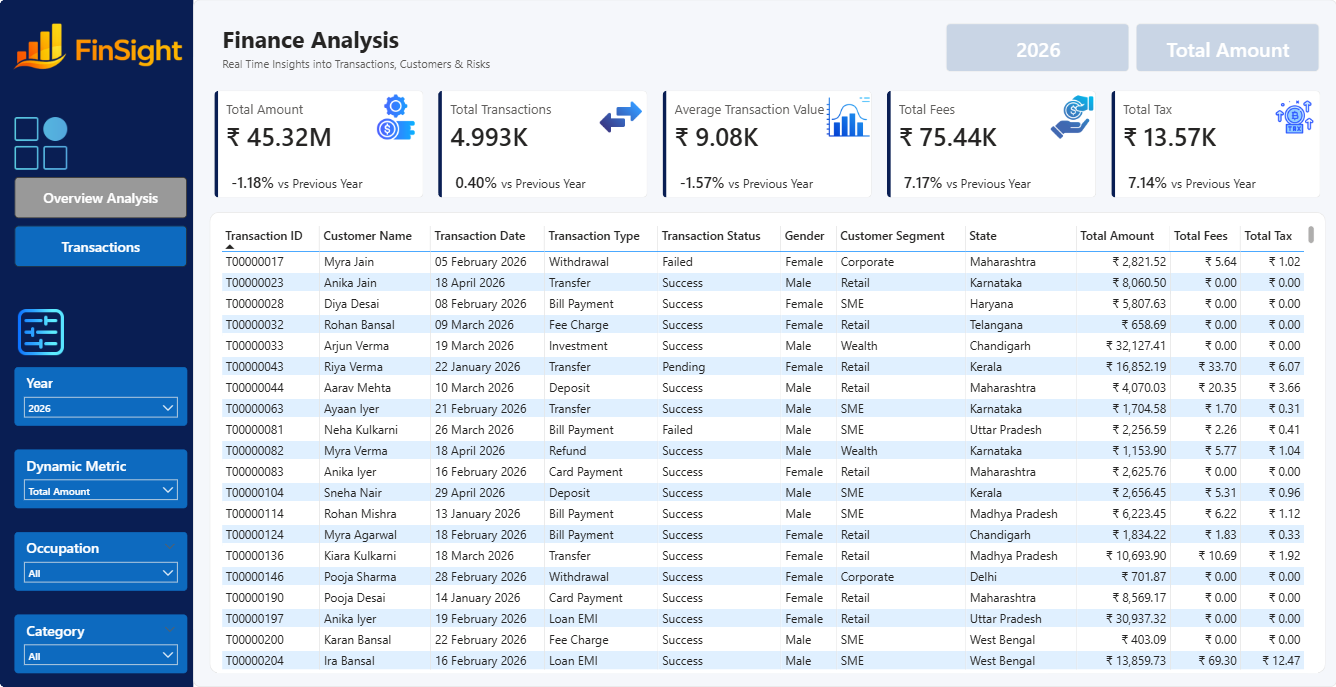

The dashboard page shown, as its layout file describes it:
{"tool":"powerbi","page":{"name":"Transactions","canvas":[1800,950],"ordinal":1},"visuals":[{"type":"shape","box":[3.6,16.4,270,917.3],"z":0},{"type":"shape","box":[261.7,16.7,1525,916.7],"z":1000},{"type":"image","box":[13.3,16.7,248.3,126.7],"z":2000},{"type":"cardVisual","fields":{"Data":["finance_transactions.Dashboard Ttile"]},"box":[283.3,28.3,518.3,103.3],"z":3000},{"type":"cardVisual","fields":{"Data":["finance_transactions.Total Amount","finance_transactions.Total Transactions","finance_transactions.Average Transaction Value","finance_transactions.Total Fees","finance_transactions.Total Tax"]},"box":[283.3,131.7,1488.3,155],"z":4000},{"type":"slicer","fields":{"Values":["Calender Table.Year"]},"box":[23.3,506.7,230,78.3],"z":5000},{"type":"image","box":[501.7,143.3,60,60],"z":6000},{"type":"image","box":[1403.3,143.3,60,60],"z":7000},{"type":"image","box":[1105,143.3,60,60],"z":8000},{"type":"image","box":[801.7,143.3,60,60],"z":9000},{"type":"image","box":[1700,143.3,60,60],"z":10000},{"type":"slicer","fields":{"Values":["Dynamic Metric.Dynamic Metric"]},"box":[23.3,616.7,230,78.3],"z":11000},{"type":"shape","box":[283.3,300,1488.3,615],"z":12000},{"type":"cardVisual","fields":{"Data":["finance_transactions.Selected Year","finance_transactions.Selected Dynamic Measure"]},"box":[1260,43.3,508.3,75],"z":13000},{"type":"shape","box":[1390,615,370,300],"z":14000},{"type":"tableEx","fields":{"Values":["finance_transactions.transaction_id","customers.customer_name","finance_transactions.transaction_date","finance_transactions.transaction_type","finance_transactions.transaction_status","customers.gender","customers.customer_segment","customers.state","finance_transactions.Total Amount","finance_transactions.Total Fees","finance_transactions.Total Tax"]},"box":[293.3,313.3,1468.3,601.7],"z":15000},{"type":"slicer","fields":{"Values":["customers.customer_segment"]},"box":[23.3,836.7,230,78.3],"z":17000},{"type":"slicer","fields":{"Values":["customers.occupation"]},"box":[23.3,726.7,230,78.3],"z":18000},{"type":"image","box":[23.3,425,70,70],"z":19000},{"type":"pageNavigator","box":[23.3,253.3,230,120],"z":19001},{"type":"image","box":[23.3,173.3,70,70],"z":19002}]}

Visuals, with their boxes in screenshot pixels (x1, y1, x2, y2), scaled from the page's 1800x950 canvas onto the 1336x687 screenshot:
shape: left=3, top=12, right=203, bottom=675
shape: left=194, top=12, right=1326, bottom=675
image: left=10, top=12, right=194, bottom=104
cardVisual - finance_transactions.Dashboard Ttile: left=210, top=20, right=595, bottom=95
cardVisual - finance_transactions.Total Amount x finance_transactions.Total Transactions: left=210, top=95, right=1315, bottom=207
slicer - Calender Table.Year: left=17, top=366, right=188, bottom=423
image: left=372, top=104, right=417, bottom=147
image: left=1042, top=104, right=1086, bottom=147
image: left=820, top=104, right=865, bottom=147
image: left=595, top=104, right=640, bottom=147
image: left=1262, top=104, right=1306, bottom=147
slicer - Dynamic Metric.Dynamic Metric: left=17, top=446, right=188, bottom=503
shape: left=210, top=217, right=1315, bottom=662
cardVisual - finance_transactions.Selected Year x finance_transactions.Selected Dynamic Measure: left=935, top=31, right=1312, bottom=86
shape: left=1032, top=445, right=1306, bottom=662
tableEx - finance_transactions.transaction_id x customers.customer_name: left=218, top=227, right=1307, bottom=662
slicer - customers.customer_segment: left=17, top=605, right=188, bottom=662
slicer - customers.occupation: left=17, top=526, right=188, bottom=582
image: left=17, top=307, right=69, bottom=358
pageNavigator: left=17, top=183, right=188, bottom=270
image: left=17, top=125, right=69, bottom=176
